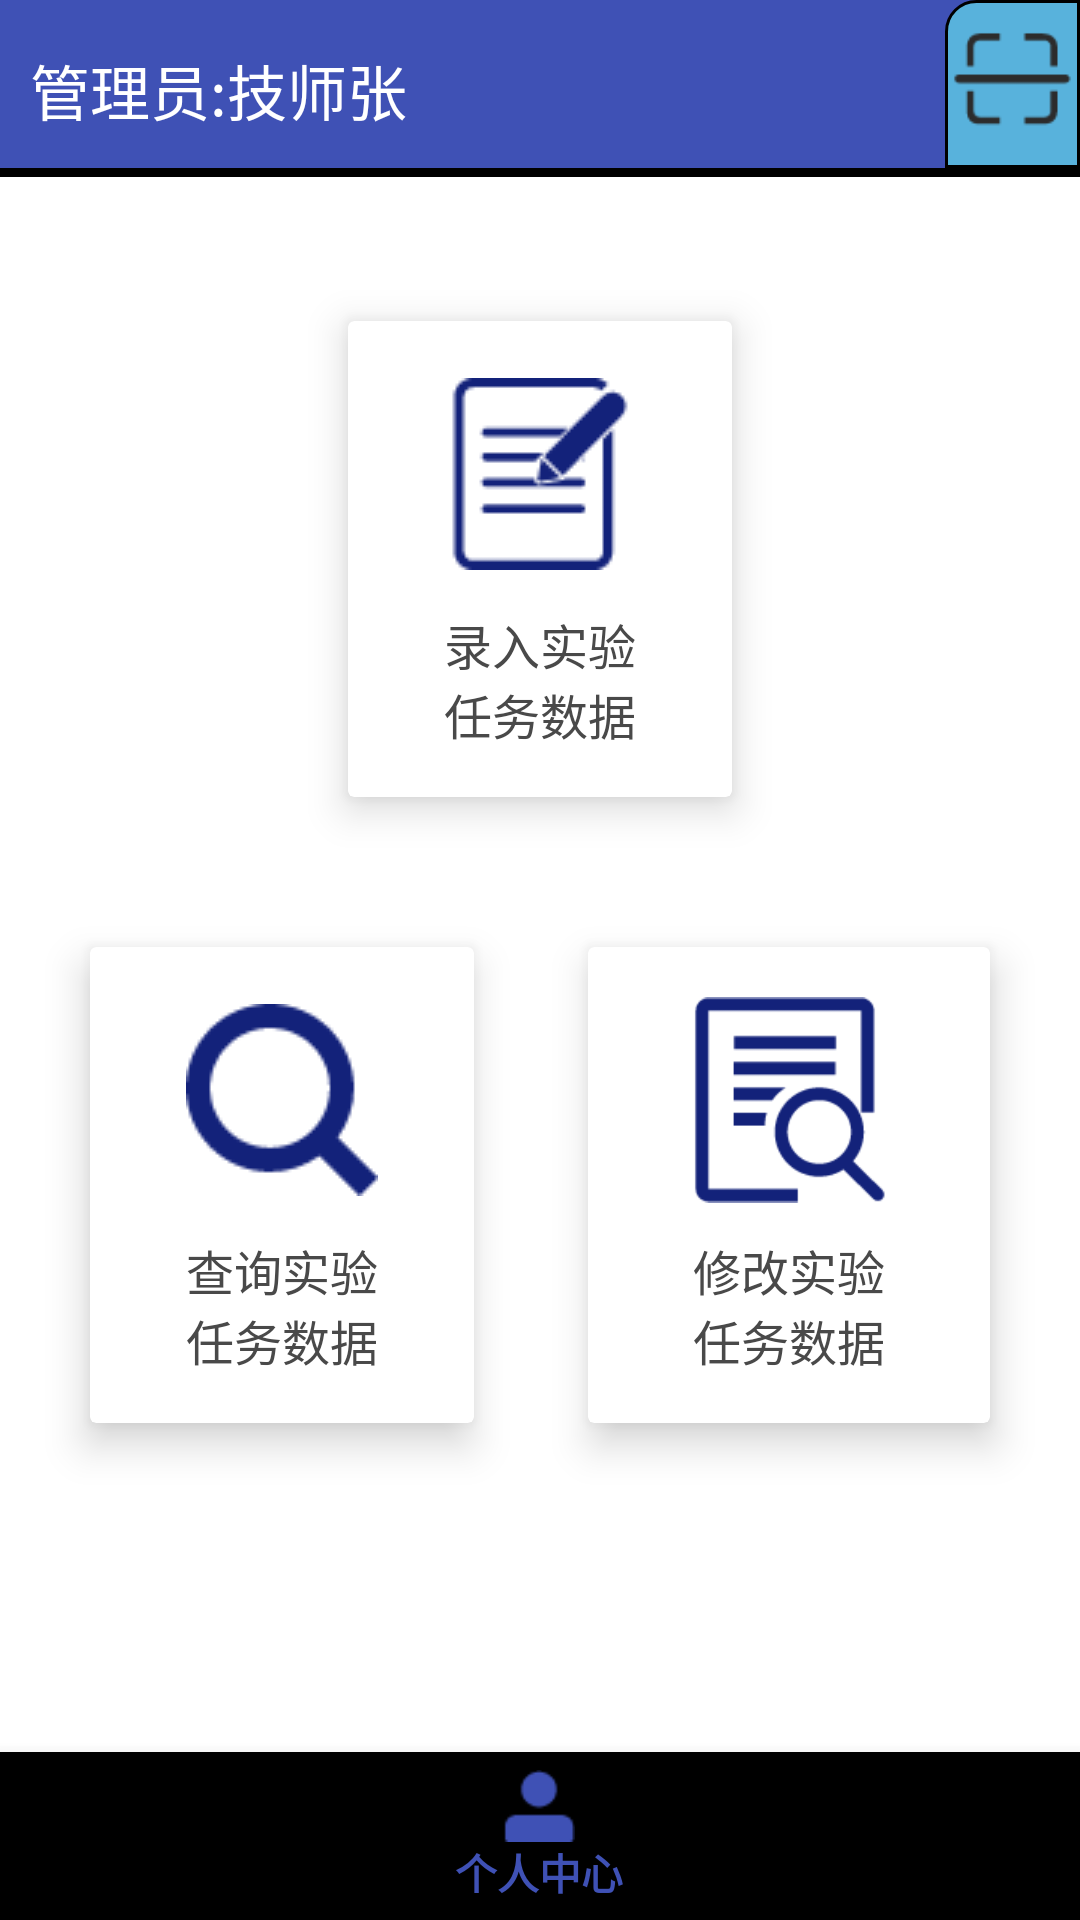

Icons on this 1080 × 1920 Android screen, each with its box as (x1, y1, x2, y2):
scan: (954, 33, 1071, 125)
